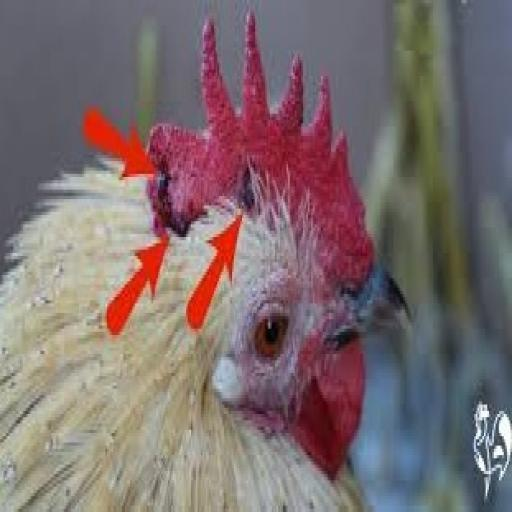disease: (152, 146, 204, 243), (244, 288, 298, 378), (232, 160, 266, 222)
